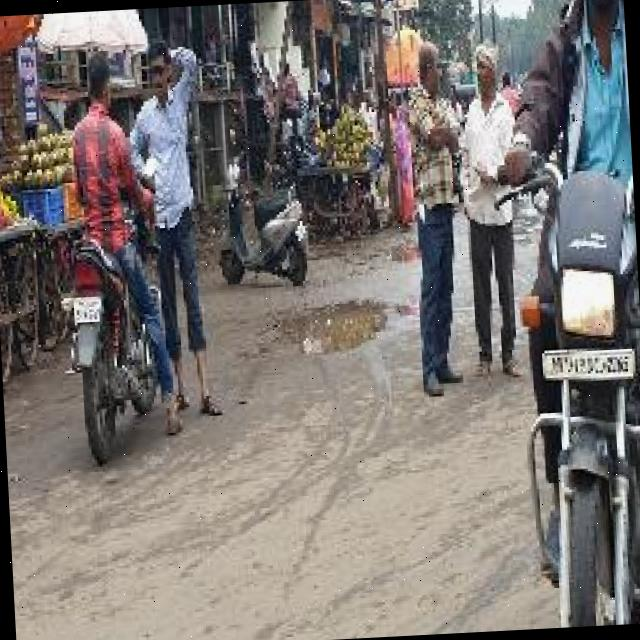stagnation: (268, 293, 402, 367)
